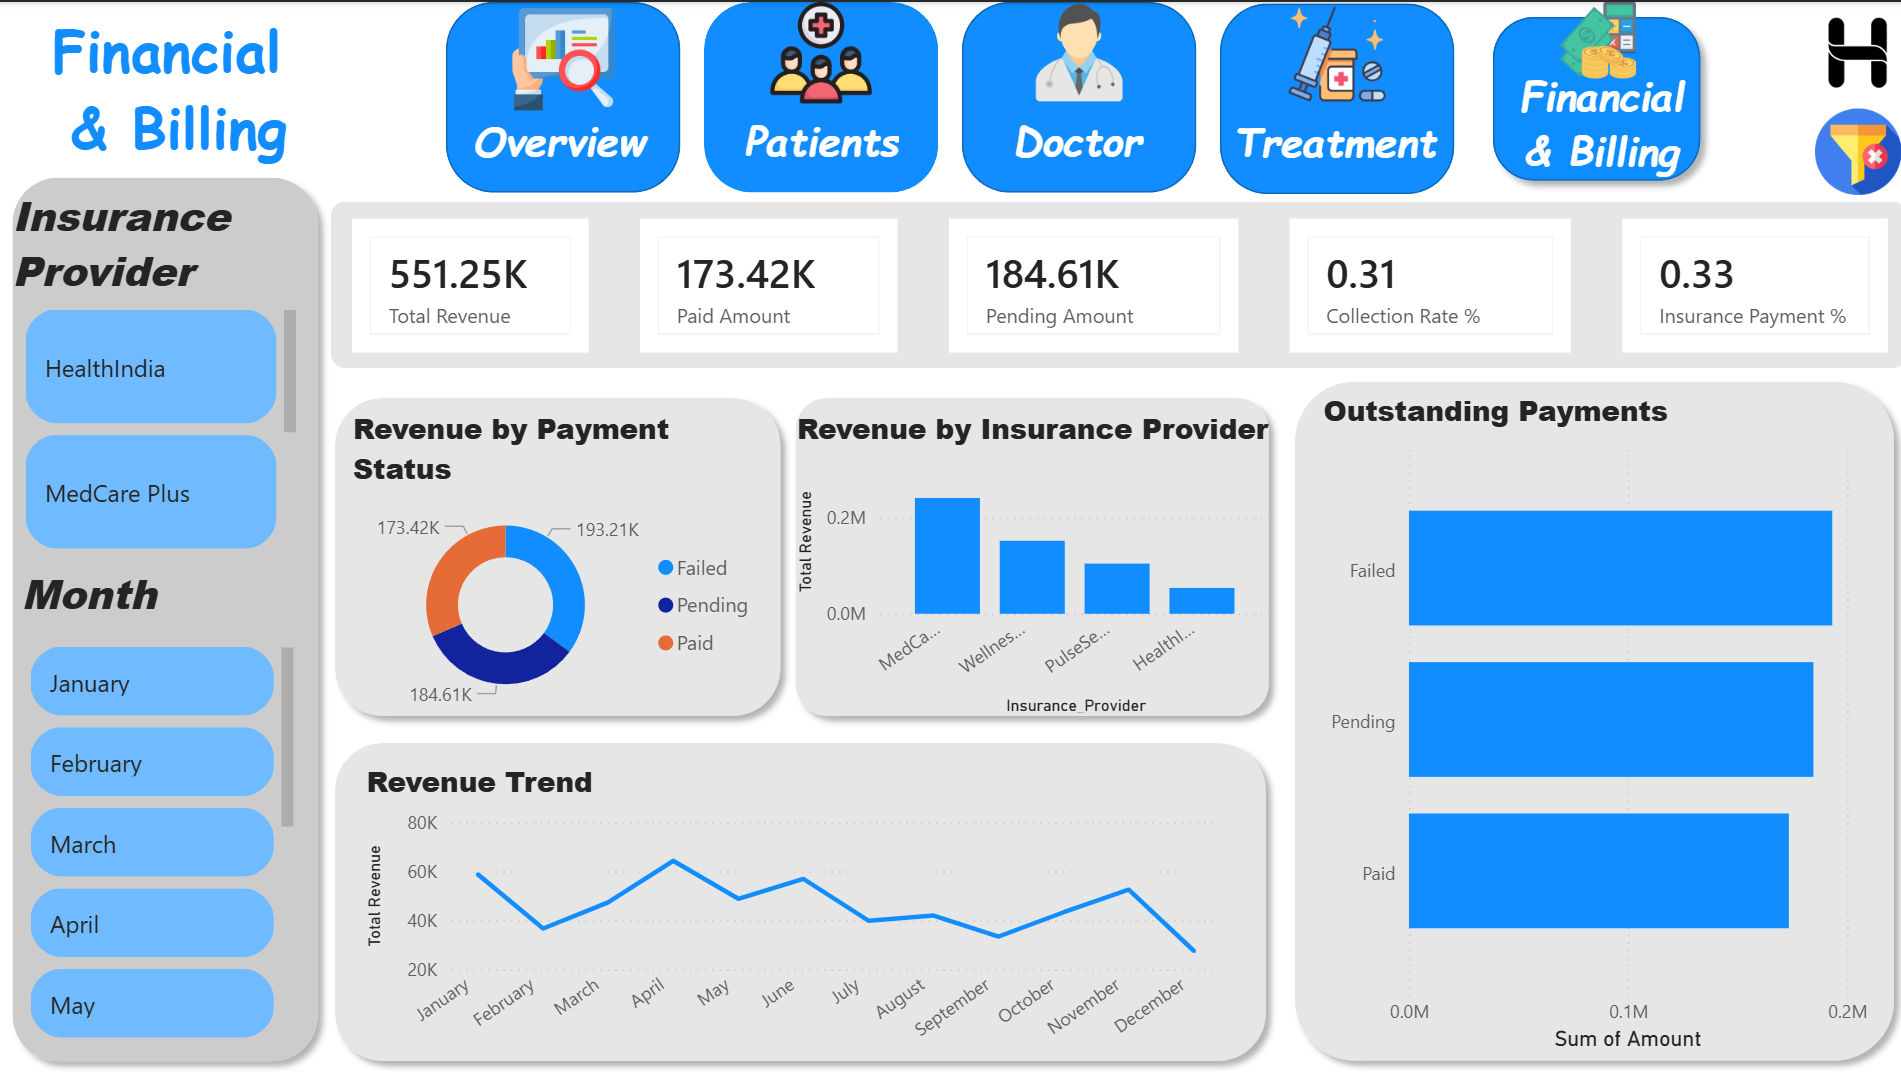

The dashboard page shown, as its layout file describes it:
{"tool":"powerbi","page":{"name":"Financial & Billing","canvas":[1280,720],"ordinal":5},"visuals":[{"type":"textbox","box":[0,0,241.1,119.5],"z":0},{"type":"image","box":[1213.2,0,66.8,67.9],"z":1000},{"type":"shape","box":[299.7,0,157.1,127.8],"z":2000,"group":"g1"},{"type":"shape","box":[472.6,0,157.1,127.8],"z":2000,"group":"g2"},{"type":"shape","box":[645.7,0,157.1,127.8],"z":2000,"group":"g3"},{"type":"shape","box":[818.5,1,157.1,127.8],"z":2000,"group":"g4"},{"type":"shape","box":[992.9,1.1,157.1,127.8],"z":2000,"group":"g5"},{"type":"shape","box":[0,108.5,222.7,610.7],"z":2000},{"type":"image","box":[1039.1,-0.1,65.8,51.5],"z":3000,"group":"g5"},{"type":"image","box":[504.2,0,94.9,68],"z":3000,"group":"g2"},{"type":"image","box":[677.3,0,94.9,68],"z":3000,"group":"g3"},{"type":"image","box":[850.1,1,94.9,68],"z":3000,"group":"g4"},{"type":"image","box":[330.9,4,95.5,68.4],"z":3000,"group":"g1"},{"type":"shape","box":[215.9,487.7,642.2,231.2],"z":3000},{"type":"textbox","box":[997.4,38.4,155.6,85.5],"z":4000,"group":"g5"},{"type":"textbox","box":[494.9,68,113.7,49.2],"z":4000,"group":"g2"},{"type":"textbox","box":[313.1,68.4,133.8,49.3],"z":4000,"group":"g1"},{"type":"textbox","box":[674.9,68.4,106.6,49.3],"z":4000,"group":"g3"},{"type":"textbox","box":[822.8,69.1,155.4,50],"z":4000,"group":"g4"},{"type":"shape","box":[222.5,133.7,1057.5,111.8],"z":4000},{"type":"cardVisual","fields":{"Data":["MeasuresTable.Total Revenue"]},"box":[231.2,140.3,169.9,100.8],"z":5000},{"type":"cardVisual","fields":{"Data":["MeasuresTable.Collection Rate %"]},"box":[859.7,140.3,199.5,100.8],"z":6000},{"type":"cardVisual","fields":{"Data":["MeasuresTable.Pending Amount"]},"box":[631.2,140.3,204.9,100.8],"z":7000},{"type":"textbox","box":[10,371.9,104,55.1],"z":8000},{"type":"advancedSlicerVisual","fields":{"Values":["DateTable.Month Name"]},"box":[16.3,427,186.6,273],"z":9000},{"type":"group","id":"g1","title":"Group 1","box":[299.7,0,157.1,127.8],"z":10000},{"type":"group","id":"g2","title":"Group 1","box":[472.6,0,157.3,127.8],"z":11000},{"type":"group","id":"g3","title":"Group 1","box":[645.7,0,157.1,127.8],"z":12000},{"type":"textbox","box":[3.8,118.9,200.4,91.4],"z":14000},{"type":"group","id":"g4","title":"Group 1","box":[818.5,1,159.6,127.8],"z":15000},{"type":"group","id":"g5","title":"Group 1","box":[992.9,-0.1,160.1,129],"z":16000},{"type":"cardVisual","fields":{"Data":["MeasuresTable.Paid Amount"]},"box":[424.7,140.3,183,100.8],"z":17000},{"type":"cardVisual","fields":{"Data":["MeasuresTable.Insurance Payment %"]},"box":[1082.7,140.3,188.5,100.8],"z":18000},{"type":"lineChart","title":"Revenue Trend","fields":{"Category":["Billing.Billing_Date.Variation.Date Hierarchy.Month"],"Y":["MeasuresTable.Total Revenue"]},"box":[241.1,508.5,581.9,199.5],"z":19000},{"type":"shape","box":[860.3,245.5,419.7,473.4],"z":20000},{"type":"shape","box":[215.9,256.4,316.7,231.2],"z":21000},{"type":"shape","box":[524.9,256.4,335.3,231.2],"z":22000},{"type":"clusteredBarChart","title":"Outstanding Payments","fields":{"Category":["Billing.Payment_Statue"],"Y":["Sum(Billing.Amount)"]},"box":[883.3,260.8,374.8,447.1],"z":23000},{"type":"donutChart","title":"Revenue by Payment Status","fields":{"Category":["Billing.Payment_Statue"],"Y":["MeasuresTable.Total Revenue"]},"box":[232.3,272.9,284.9,209.3],"z":24000},{"type":"columnChart","title":"Revenue by Insurance Provider","fields":{"Y":["MeasuresTable.Total Revenue"],"Category":["Insurance.Insurance_Provider"]},"box":[530.4,272.9,327.7,209.3],"z":25000},{"type":"image","box":[1213.2,71.2,66.8,58.1],"z":26000},{"type":"advancedSlicerVisual","fields":{"Values":["Insurance.Insurance_Provider"]},"box":[13.1,201.2,191.1,171],"z":26001}]}

Visuals, with their boxes in screenshot pixels (x1, y1, x2, y2), scaled from the page's 1280x720 canvas onto the 1901x1072 screenshot:
textbox: [left=0, top=0, right=358, bottom=178]
image: [left=1802, top=0, right=1900, bottom=101]
shape: [left=445, top=0, right=678, bottom=190]
shape: [left=702, top=0, right=935, bottom=190]
shape: [left=959, top=0, right=1192, bottom=190]
shape: [left=1216, top=1, right=1449, bottom=192]
shape: [left=1475, top=2, right=1708, bottom=192]
shape: [left=0, top=162, right=331, bottom=1071]
image: [left=1543, top=0, right=1641, bottom=77]
image: [left=749, top=0, right=890, bottom=101]
image: [left=1006, top=0, right=1147, bottom=101]
image: [left=1263, top=1, right=1403, bottom=103]
image: [left=491, top=6, right=633, bottom=108]
shape: [left=321, top=726, right=1274, bottom=1070]
textbox: [left=1481, top=57, right=1712, bottom=184]
textbox: [left=735, top=101, right=904, bottom=174]
textbox: [left=465, top=102, right=664, bottom=175]
textbox: [left=1002, top=102, right=1161, bottom=175]
textbox: [left=1222, top=103, right=1453, bottom=177]
shape: [left=330, top=199, right=1900, bottom=366]
cardVisual - MeasuresTable.Total Revenue: [left=343, top=209, right=596, bottom=359]
cardVisual - MeasuresTable.Collection Rate %: [left=1277, top=209, right=1573, bottom=359]
cardVisual - MeasuresTable.Pending Amount: [left=937, top=209, right=1242, bottom=359]
textbox: [left=15, top=554, right=169, bottom=636]
advancedSlicerVisual - DateTable.Month Name: [left=24, top=636, right=301, bottom=1042]
"Group 1" group: [left=445, top=0, right=678, bottom=190]
"Group 1" group: [left=702, top=0, right=935, bottom=190]
"Group 1" group: [left=959, top=0, right=1192, bottom=190]
textbox: [left=6, top=177, right=303, bottom=313]
"Group 1" group: [left=1216, top=1, right=1453, bottom=192]
"Group 1" group: [left=1475, top=0, right=1712, bottom=192]
cardVisual - MeasuresTable.Paid Amount: [left=631, top=209, right=903, bottom=359]
cardVisual - MeasuresTable.Insurance Payment %: [left=1608, top=209, right=1888, bottom=359]
"Revenue Trend" lineChart: [left=358, top=757, right=1222, bottom=1054]
shape: [left=1278, top=366, right=1900, bottom=1070]
shape: [left=321, top=382, right=791, bottom=726]
shape: [left=780, top=382, right=1278, bottom=726]
"Outstanding Payments" clusteredBarChart: [left=1312, top=388, right=1868, bottom=1054]
"Revenue by Payment Status" donutChart: [left=345, top=406, right=768, bottom=718]
"Revenue by Insurance Provider" columnChart: [left=788, top=406, right=1274, bottom=718]
image: [left=1802, top=106, right=1900, bottom=193]
advancedSlicerVisual - Insurance.Insurance_Provider: [left=19, top=300, right=303, bottom=554]
